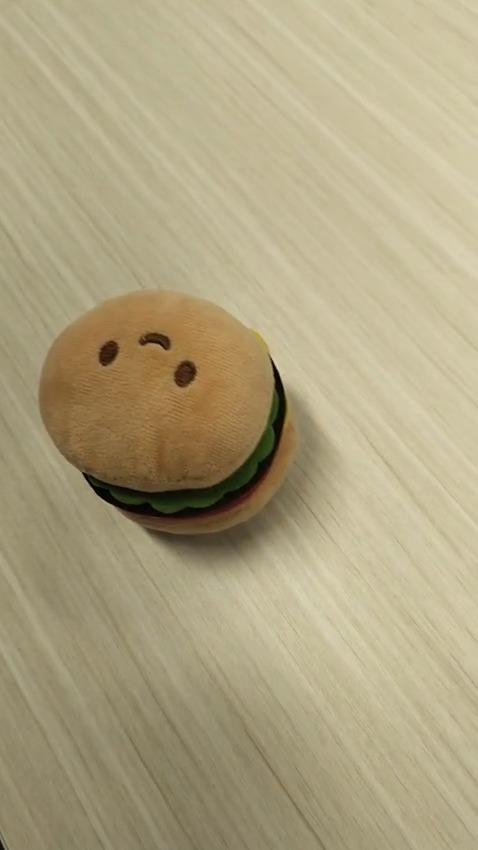hamburger: (37, 286, 298, 536)
